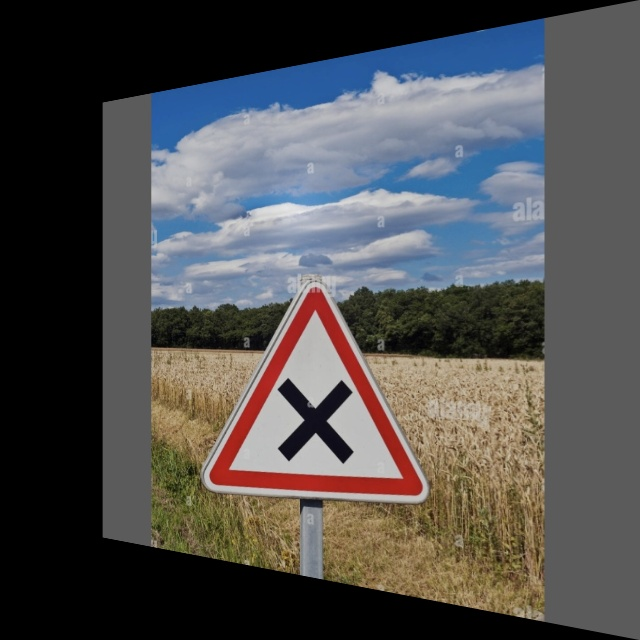Cross_Road: (211, 279, 429, 520)
